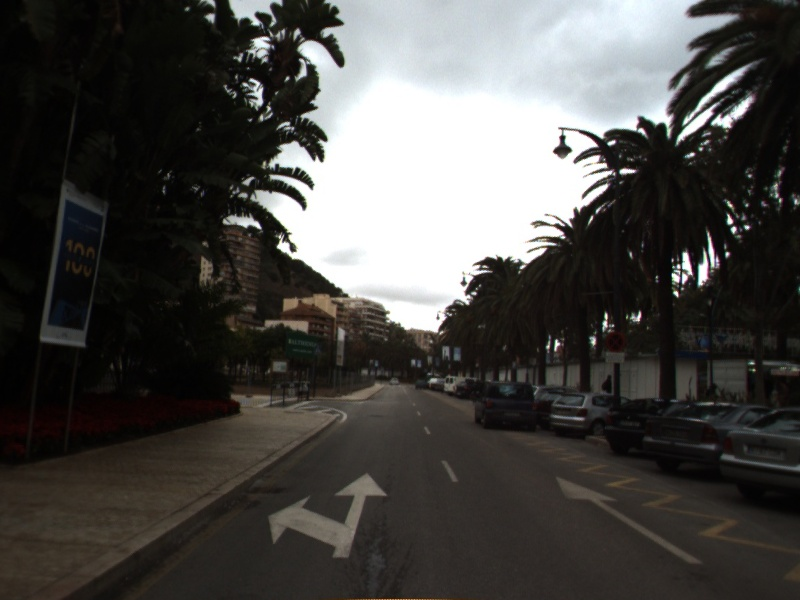STRAIGHT: (555, 475, 704, 565)
STRAIGHT_LEFT: (267, 471, 389, 559)
